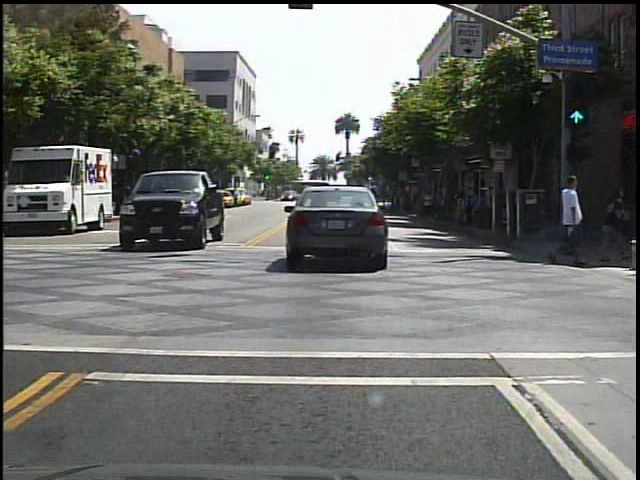person: (552, 163, 592, 270), (418, 189, 436, 222), (575, 173, 577, 263)
